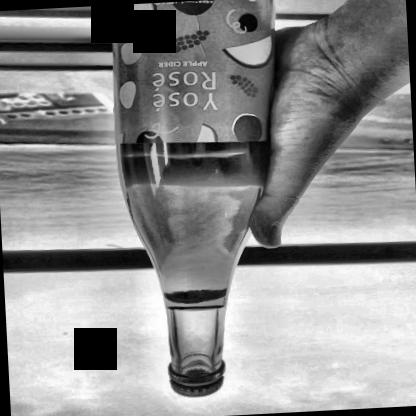yoserose: (111, 0, 269, 139)
